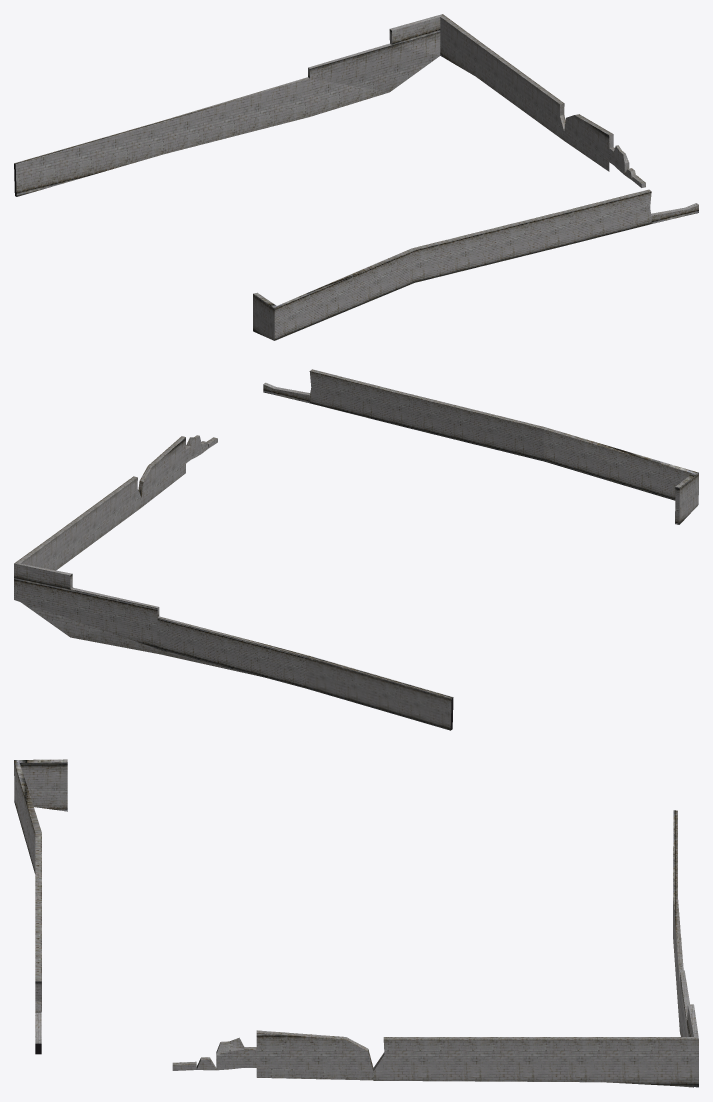
File: wall_cm_firehse.obj
3 renders of one model, top to bottom at view 1: azimuth 30°, elevation 25°; view 2: azimuth 150°, elevation 25°; view 3: azimuth 270°, elevation 25°, orthographic. The views are drawn at different scales.
Visible parts, largest first — view 1: wall_cm_firehse; view 2: wall_cm_firehse; view 3: wall_cm_firehse.
Part boxes in pixels (x1=…): wall_cm_firehse: x1=14, y1=14, x2=698, y2=340; wall_cm_firehse: x1=14, y1=369, x2=698, y2=730; wall_cm_firehse: x1=14, y1=759, x2=698, y2=1087.
Size of the model in its own units: 59.15 by 11.8 by 61.94.
1 material, 1 textured.
